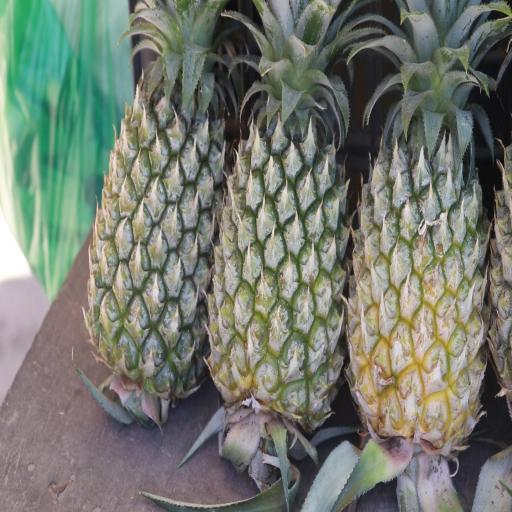------------------------------: (346, 0, 492, 472)
